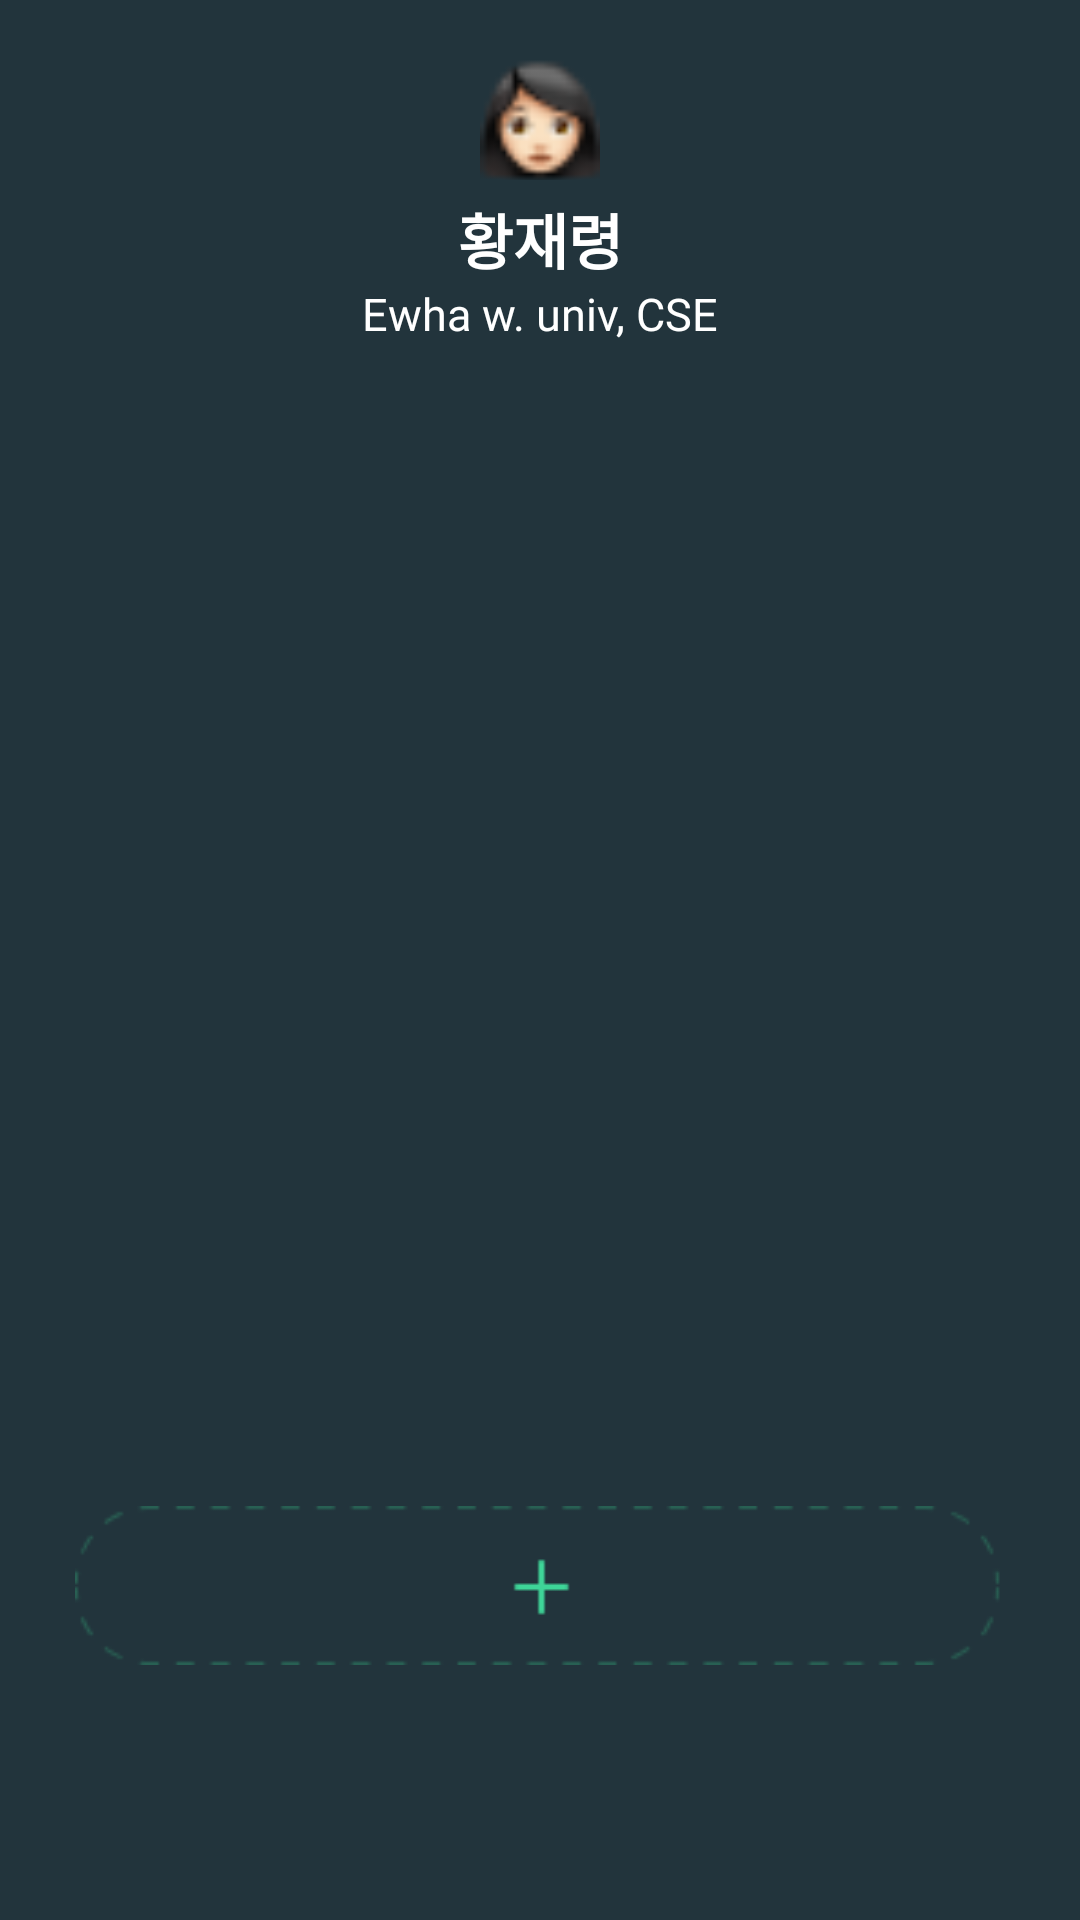

Icon bounding boxes for this 1080 × 1920 phone screenshot, format rect(x1, y1, x2, y2):
profile person: rect(483, 63, 600, 178)
